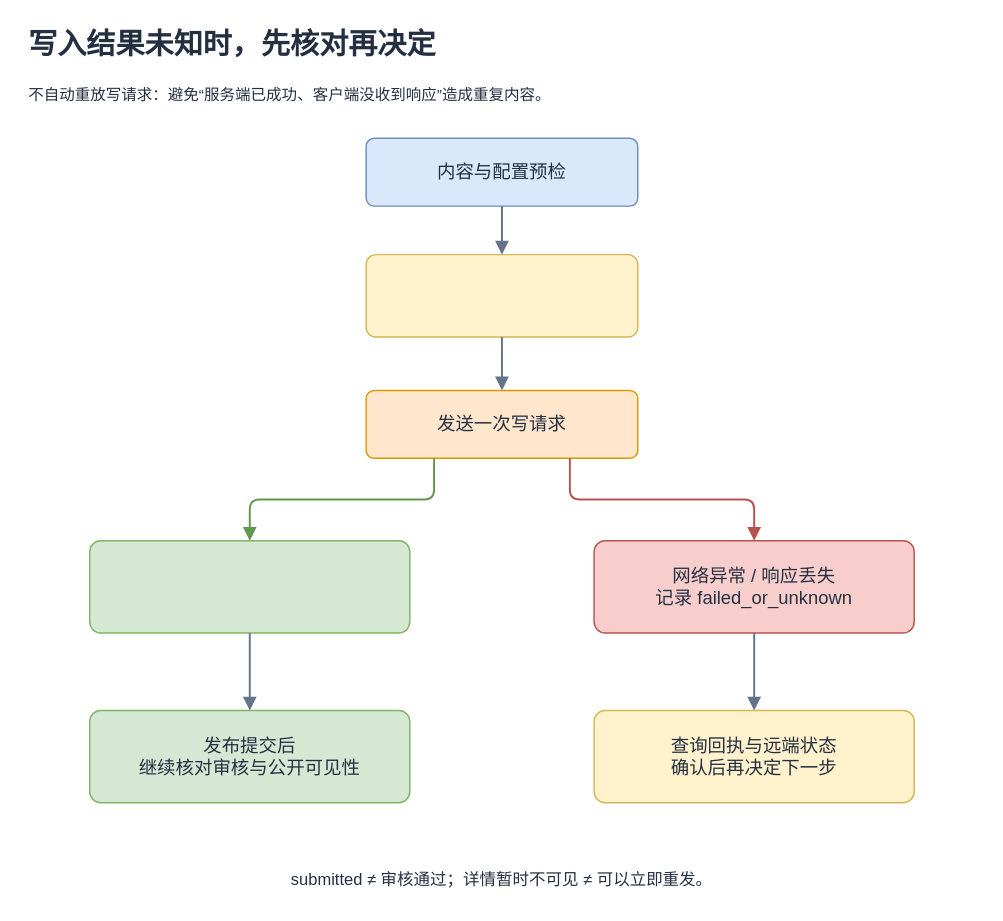
The diagram is 1003 pixels wide and 921 high, and some of its shapes have lost their labels. The box of each missing label's shape, as (x1, y1, x2, y2) in pixels:
收到成功响应 记录 succeeded 与返回 ID: (89, 540, 410, 633)
记录 started 操作 ID 与已知目标 ID: (365, 253, 638, 337)
